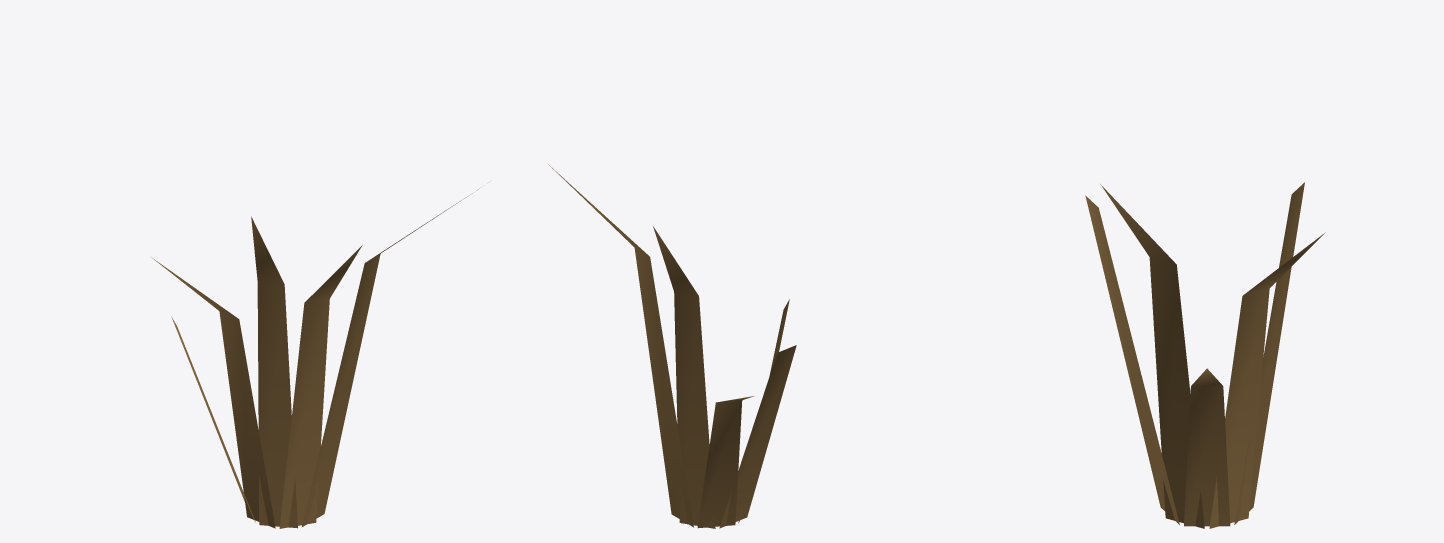
The model's file is dry_grass.glb.
3 renders of one model, left to right at view 1: azimuth 30°, elevation 25°; view 2: azimuth 150°, elevation 25°; view 3: azimuth 270°, elevation 25°, orthographic. The views are drawn at different scales.
Parts seen in each view (by area): view 1: dry_grass; view 2: dry_grass; view 3: dry_grass.
Part boxes in pixels (x1=…): dry_grass: x1=151, y1=188, x2=479, y2=528; dry_grass: x1=548, y1=164, x2=796, y2=528; dry_grass: x1=1085, y1=182, x2=1325, y2=528.
Size of the model in its own units: 0.5087 by 0.5277 by 0.4974.
